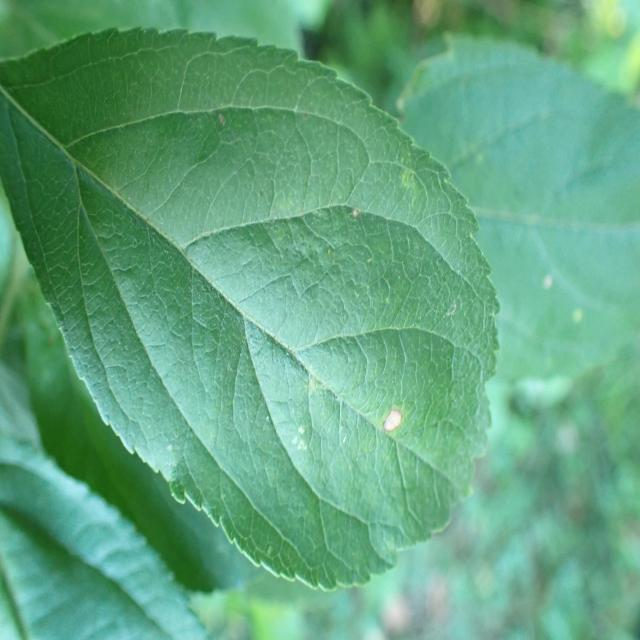Black Rot: (367, 374, 408, 451)
